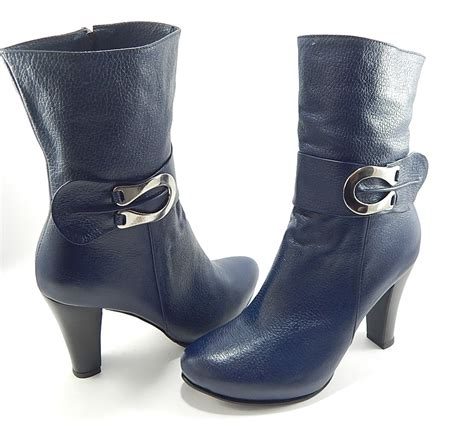cuero: (1, 20, 428, 404)
